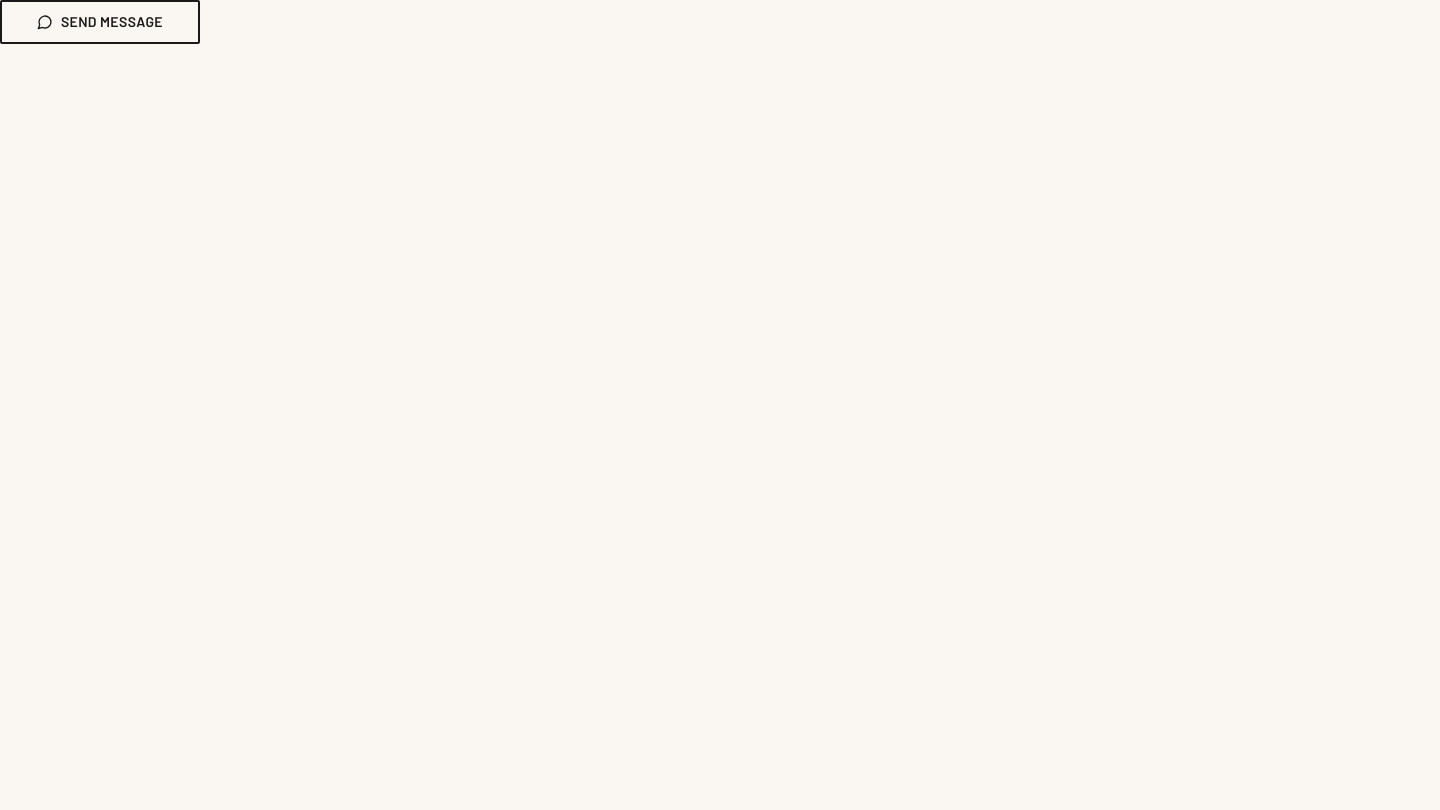
SendMessageButton › Existing Conversation Check › should show modal if no existing conversation
The width and height of the screenshot is (1440, 810).
Click the button "Send Message": coordinates (100, 22) [0,0,200,44]
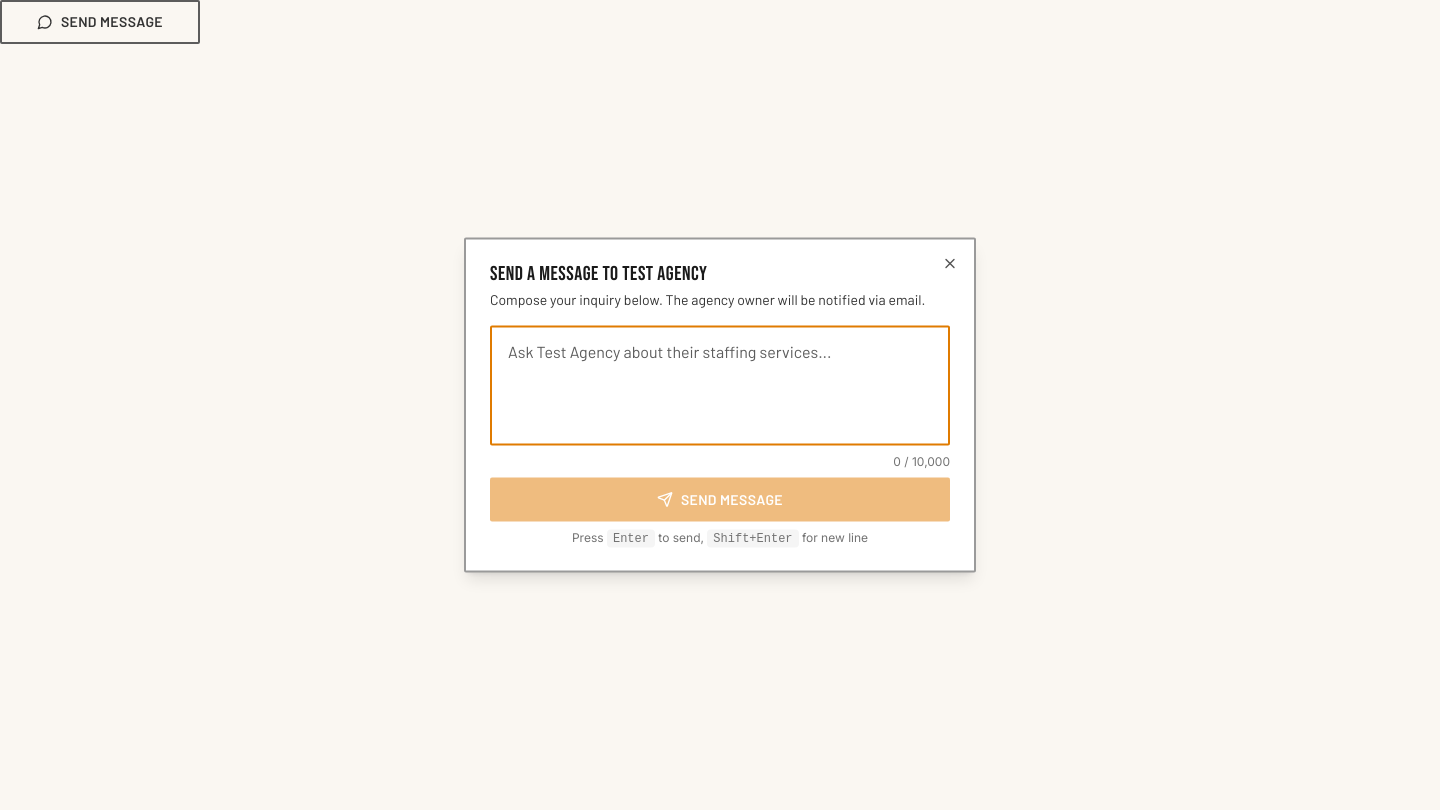
expect the heading "Send a message to Test Agency" is shown: met, box [490,262,707,286]
